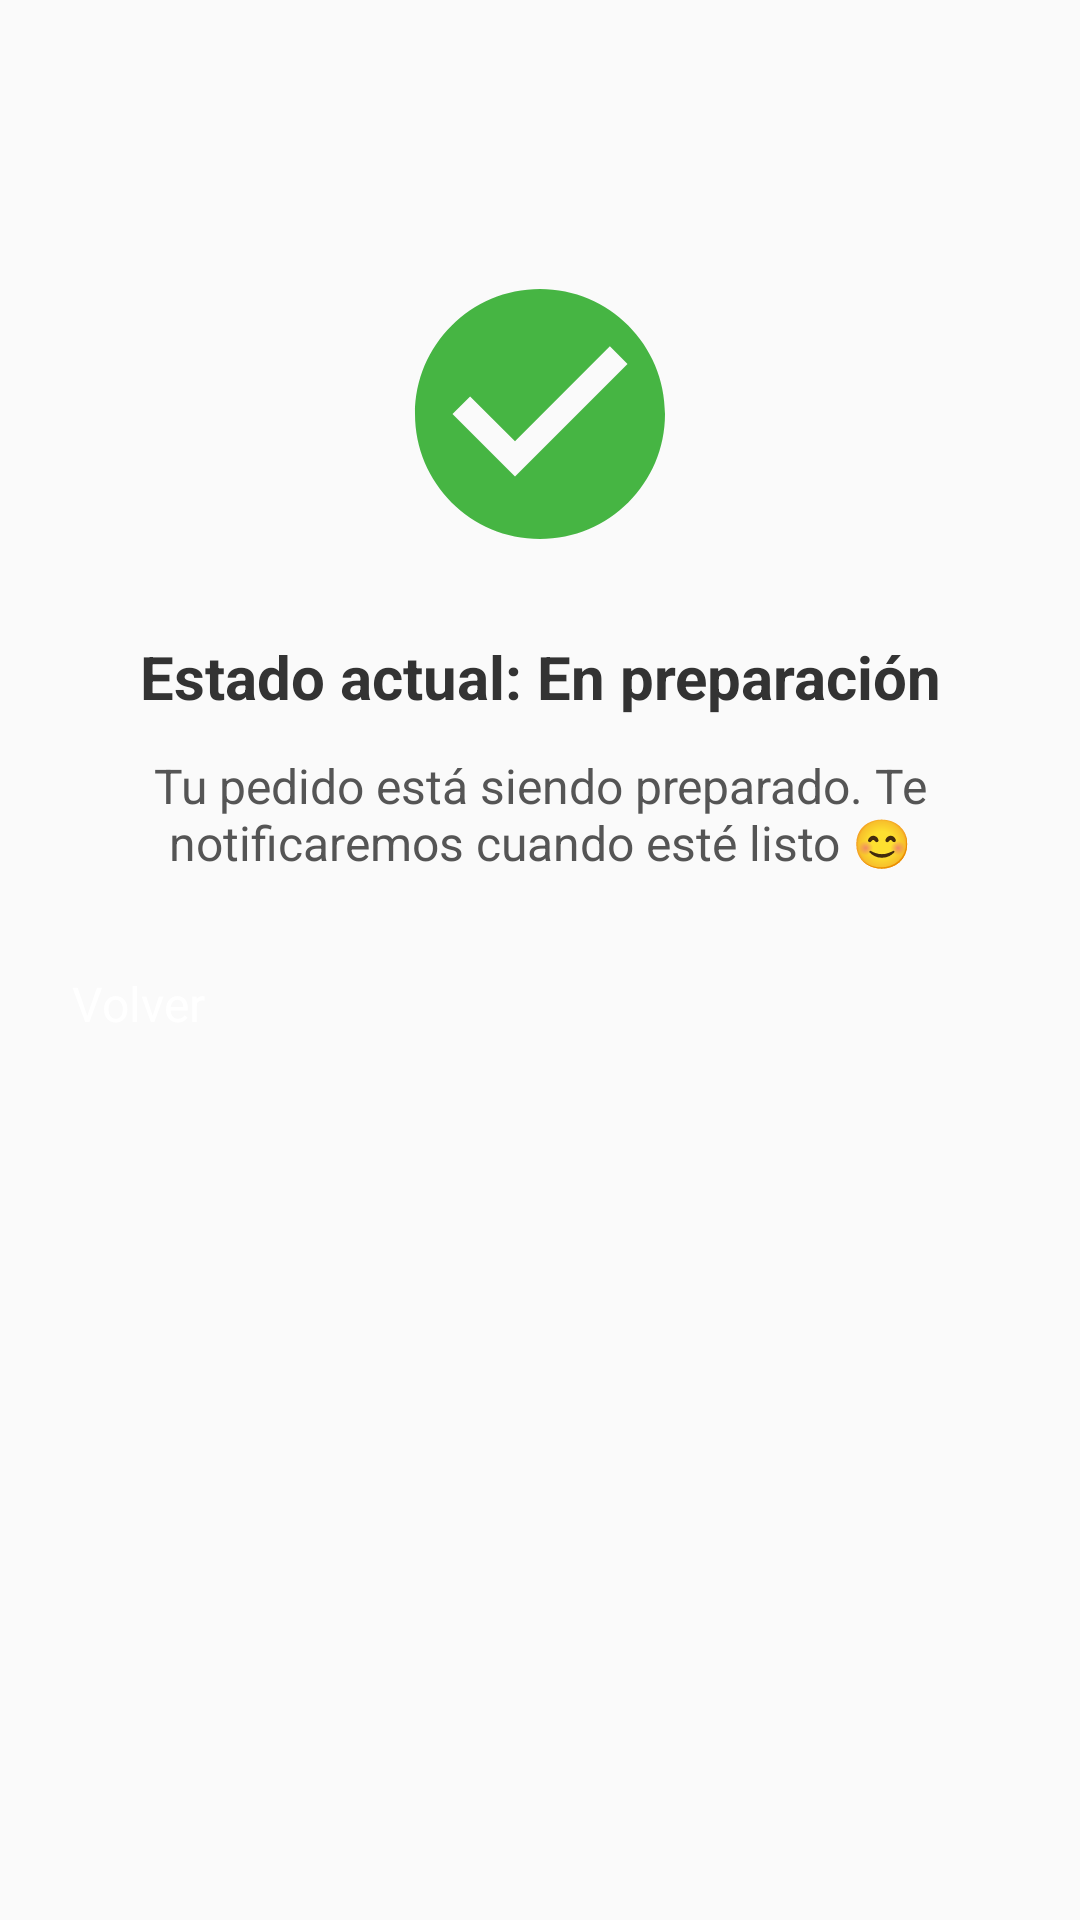

Screen size 1080 x 1920. Icon name, then its center in pixels as (x=x, y=y):
check circle: (x=540, y=414)
